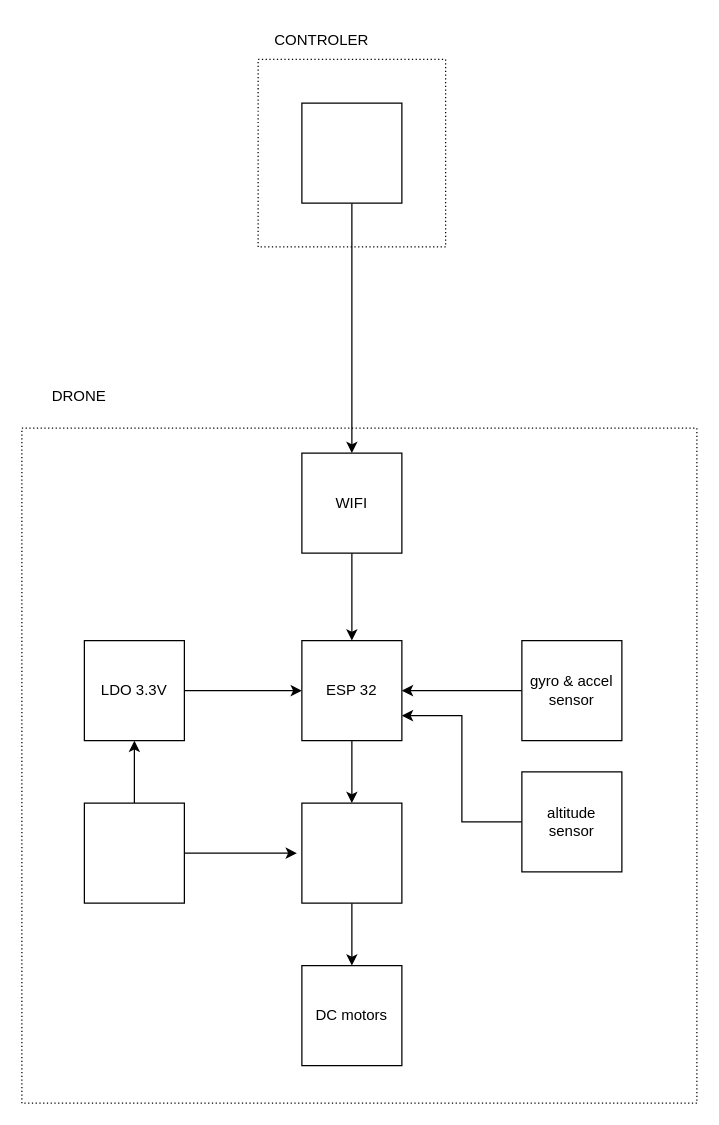
Some shapes in this 719 by 1125 pixel diagram are drawn without their labels. The centre of each missing label's shape, as x and y in pixels:
"Battery 3.7V" belongs at (133,852).
"ESP Drone APP" belongs at (351,152).
"H bridge" belongs at (351,852).
